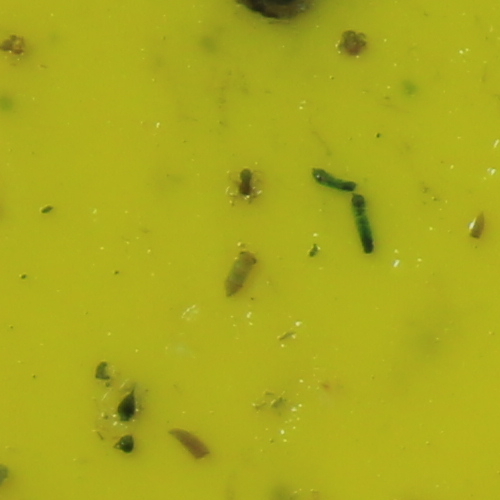psylla: (222, 251, 258, 297)
